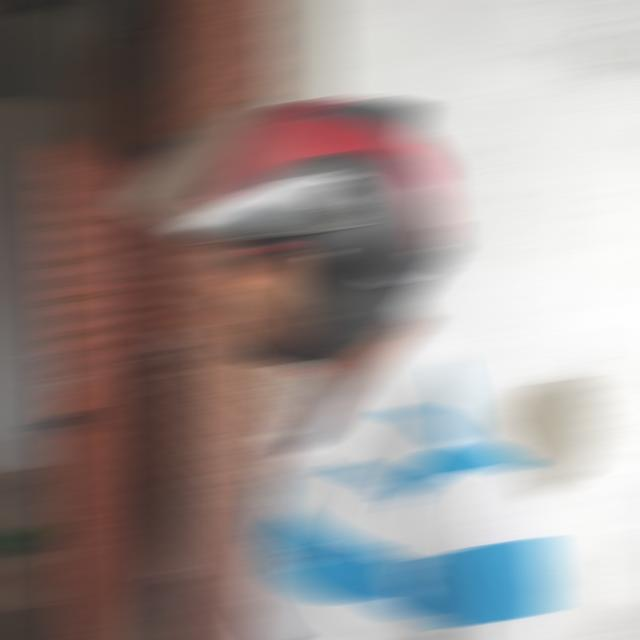With Helmet: (108, 96, 458, 359)
